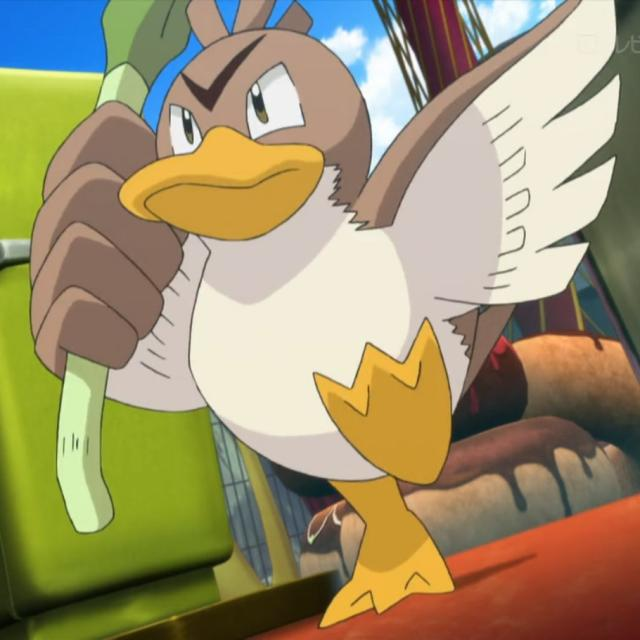Farfetchd: (52, 0, 528, 546)
